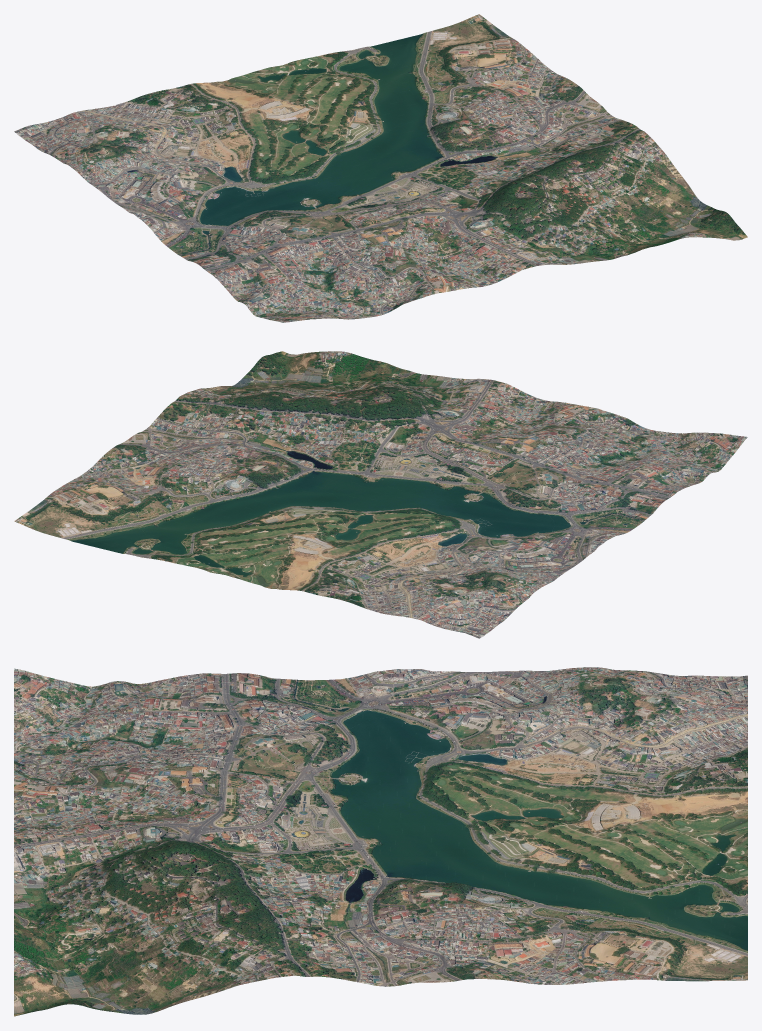
The model's file is terrain_real_T_E00_N00.glb.
3 views of the same model, one above another, from view 1: azimuth 30°, elevation 25°; view 2: azimuth 150°, elevation 25°; view 3: azimuth 270°, elevation 25° (orthographic). The views are drawn at different scales.
Visible parts, largest first — view 1: TerrainReal_T_E00_N00_SW, TerrainReal_T_E00_N00_SE, TerrainReal_T_E00_N00_NW, TerrainReal_T_E00_N00_NE; view 2: TerrainReal_T_E00_N00_NE, TerrainReal_T_E00_N00_SW, TerrainReal_T_E00_N00_NW, TerrainReal_T_E00_N00_SE; view 3: TerrainReal_T_E00_N00_SE, TerrainReal_T_E00_N00_NW, TerrainReal_T_E00_N00_NE, TerrainReal_T_E00_N00_SW.
Part boxes in pixels (x1,y1,x2,y2): TerrainReal_T_E00_N00_SW: [148, 175, 514, 322]; TerrainReal_T_E00_N00_SE: [381, 116, 747, 273]; TerrainReal_T_E00_N00_NW: [14, 74, 380, 226]; TerrainReal_T_E00_N00_NE: [247, 14, 612, 174]; TerrainReal_T_E00_N00_NE: [14, 427, 380, 581]; TerrainReal_T_E00_N00_SW: [381, 387, 747, 536]; TerrainReal_T_E00_N00_NW: [247, 486, 613, 638]; TerrainReal_T_E00_N00_SE: [148, 351, 514, 485]; TerrainReal_T_E00_N00_SE: [14, 823, 380, 1016]; TerrainReal_T_E00_N00_NW: [381, 667, 747, 833]; TerrainReal_T_E00_N00_NE: [381, 824, 747, 986]; TerrainReal_T_E00_N00_SW: [14, 668, 380, 833].
Size of the model in its own units: 2000 by 166 by 2000.
4 materials, 4 textured.
